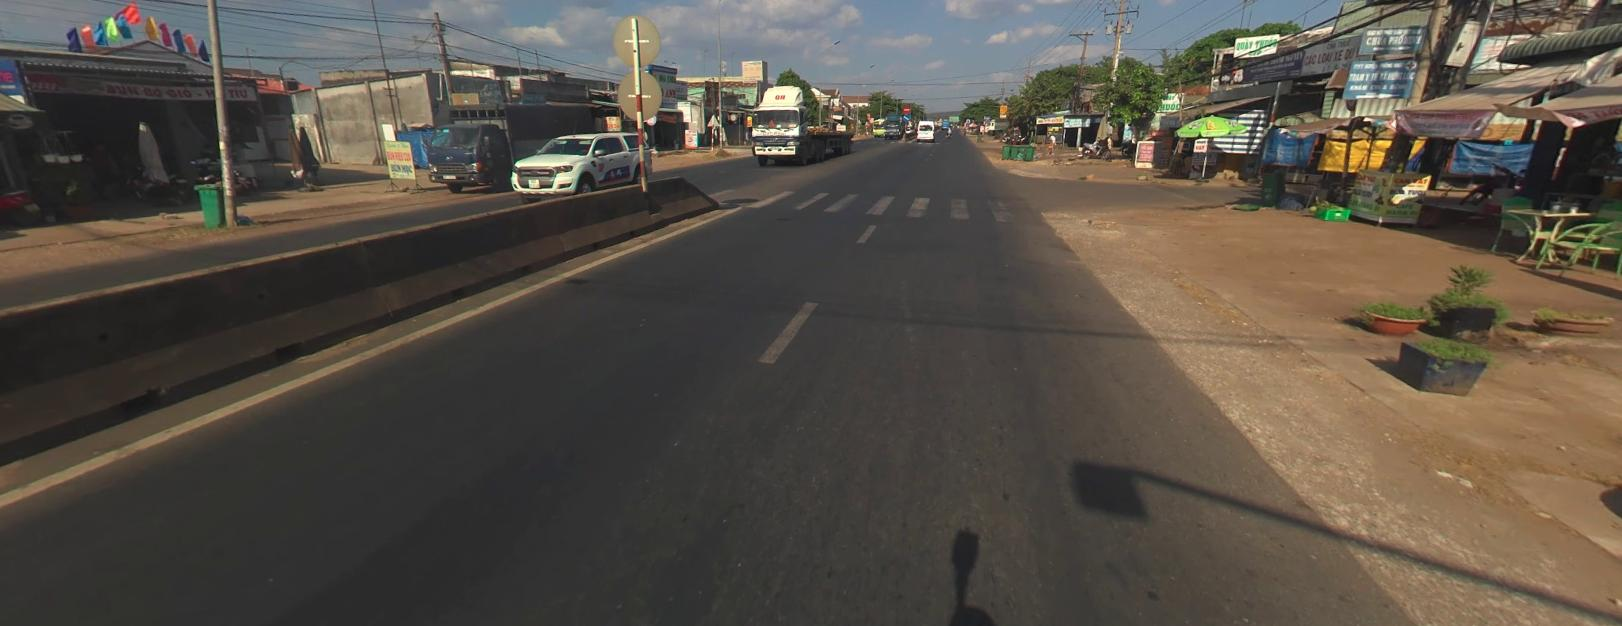Cam nguoc chieu: (902, 104, 909, 111)
Hieu lenh: (902, 112, 910, 120)
